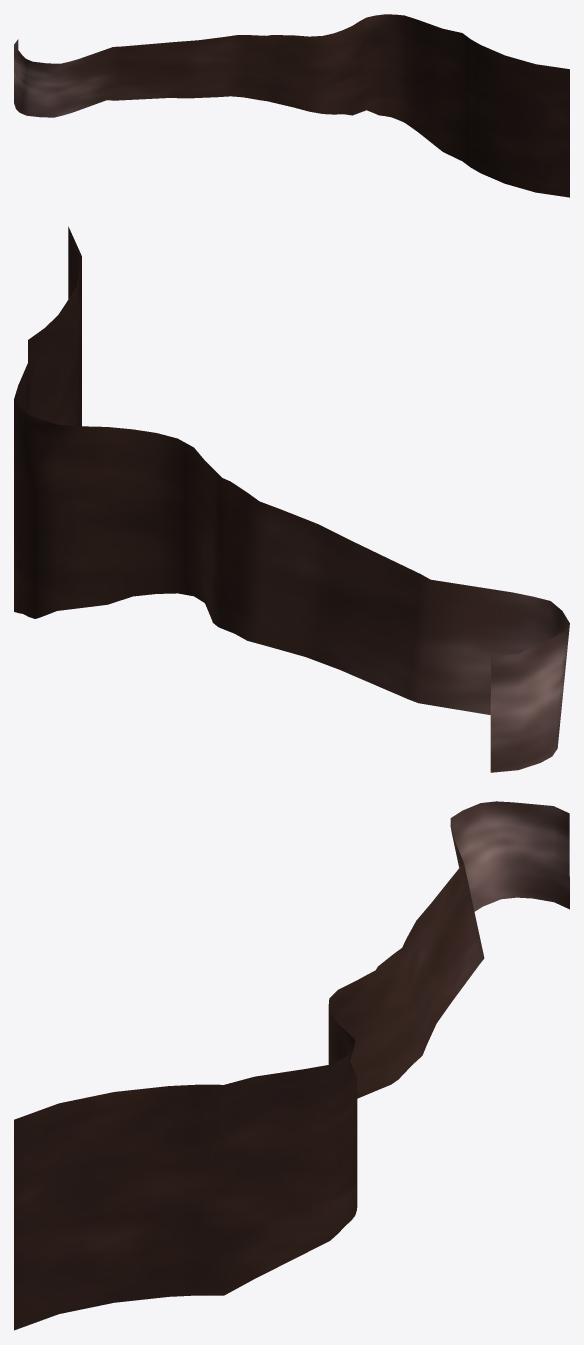
Rendered from Wall01.obj.
3 renders of one model, top to bottom at view 1: azimuth 30°, elevation 25°; view 2: azimuth 150°, elevation 25°; view 3: azimuth 270°, elevation 25°, orthographic. The views are drawn at different scales.
Visible parts, largest first — view 1: WallRight_Plane.007; view 2: WallRight_Plane.007; view 3: WallRight_Plane.007.
Boxes of the visible parts, x1,y1,x2,y2 form: WallRight_Plane.007: (14,14,569,197); WallRight_Plane.007: (14,226,569,772); WallRight_Plane.007: (14,801,569,1330).
Size of the model in its own units: 23.95 by 7.4 by 17.68.
1 material, 1 textured.
